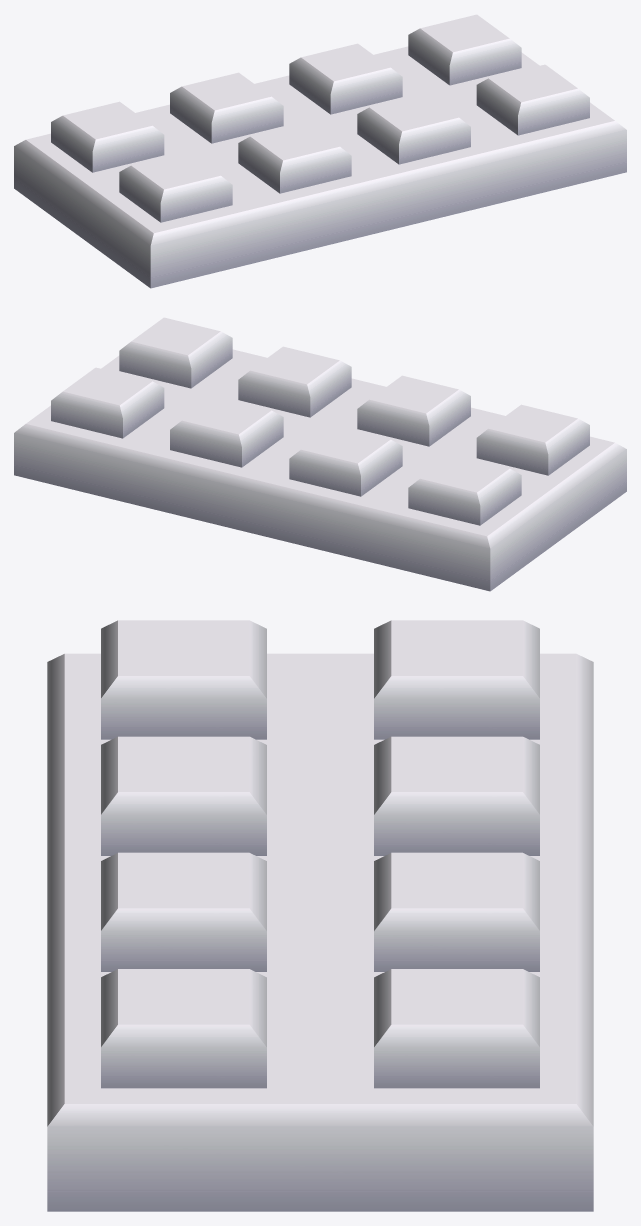
Rendered from square-hq-plate-2x4.glb.
The picture shows the model from 3 angles, top to bottom: view 1: azimuth 30°, elevation 25°; view 2: azimuth 150°, elevation 25°; view 3: azimuth 270°, elevation 25°; orthographic projection. The views are drawn at different scales.
Visible parts, largest first — view 1: square-hq-plate-2x4; view 2: square-hq-plate-2x4; view 3: square-hq-plate-2x4.
Part boxes in pixels (x1=…): square-hq-plate-2x4: x1=14, y1=14, x2=626, y2=288; square-hq-plate-2x4: x1=14, y1=317, x2=626, y2=591; square-hq-plate-2x4: x1=47, y1=620, x2=593, y2=1211.
Bounding box in the file's own units: 0.318 × 0.05 × 0.158.
1 material, 1 textured.
